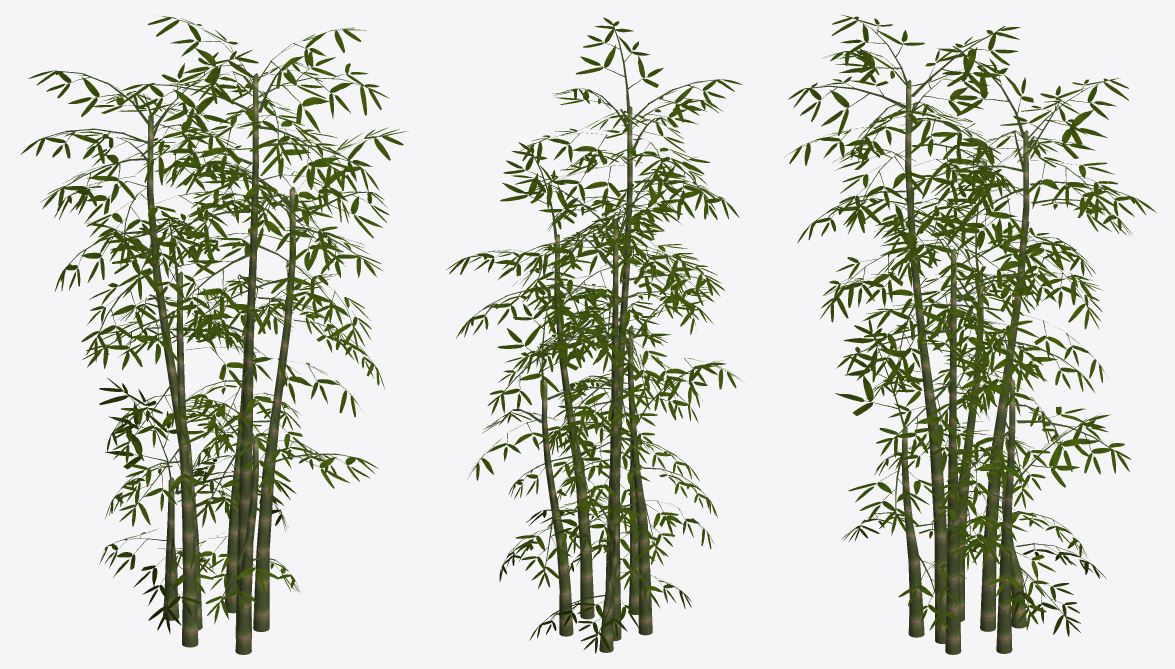
The model's file is bamboo.fbx.
The picture shows the model from 3 angles, left to right: view 1: azimuth 30°, elevation 25°; view 2: azimuth 150°, elevation 25°; view 3: azimuth 270°, elevation 25°; orthographic projection. The views are drawn at different scales.
Parts seen in each view (by area): view 1: Tree_1, Tree_0; view 2: Tree_1, Tree_0; view 3: Tree_1, Tree_0.
Part boxes in pixels (x1,y1,x2,y2): Tree_1: (20, 16, 408, 633); Tree_0: (147, 73, 295, 654); Tree_1: (446, 17, 742, 653); Tree_0: (541, 106, 652, 652); Tree_1: (785, 15, 1156, 636); Tree_0: (901, 79, 1029, 654).
Size of the model in its own units: 245 by 440 by 249.
